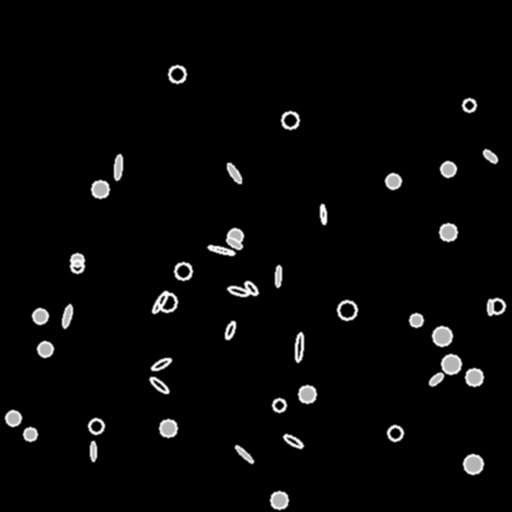pseudomonas: (151, 289, 169, 315), (148, 375, 170, 395), (225, 161, 243, 185), (234, 445, 254, 463), (150, 356, 172, 372), (283, 433, 303, 449), (208, 244, 234, 256), (61, 304, 73, 328), (427, 371, 445, 387), (243, 280, 259, 296), (225, 236, 243, 250), (482, 149, 498, 163), (295, 333, 303, 361), (224, 321, 236, 339), (228, 286, 248, 296), (114, 155, 122, 179), (275, 265, 281, 287), (90, 441, 96, 461), (320, 205, 326, 223), (487, 299, 493, 315)
synechocystis: (433, 327, 451, 345), (442, 355, 460, 373), (158, 293, 176, 311), (338, 301, 356, 319), (464, 455, 482, 473), (271, 492, 287, 508), (92, 181, 108, 197), (160, 420, 176, 436), (169, 66, 185, 82), (466, 369, 482, 385), (175, 263, 191, 279), (440, 224, 456, 240), (299, 386, 315, 402), (282, 112, 298, 128), (441, 162, 455, 176), (386, 174, 400, 188), (228, 229, 242, 243), (33, 309, 47, 323), (388, 426, 402, 440), (89, 419, 103, 433), (490, 299, 504, 313), (38, 342, 52, 356), (6, 411, 20, 425), (463, 99, 475, 111), (71, 254, 83, 266), (444, 226, 456, 238), (71, 260, 83, 272), (410, 314, 422, 326), (273, 399, 285, 411), (24, 428, 36, 440)
